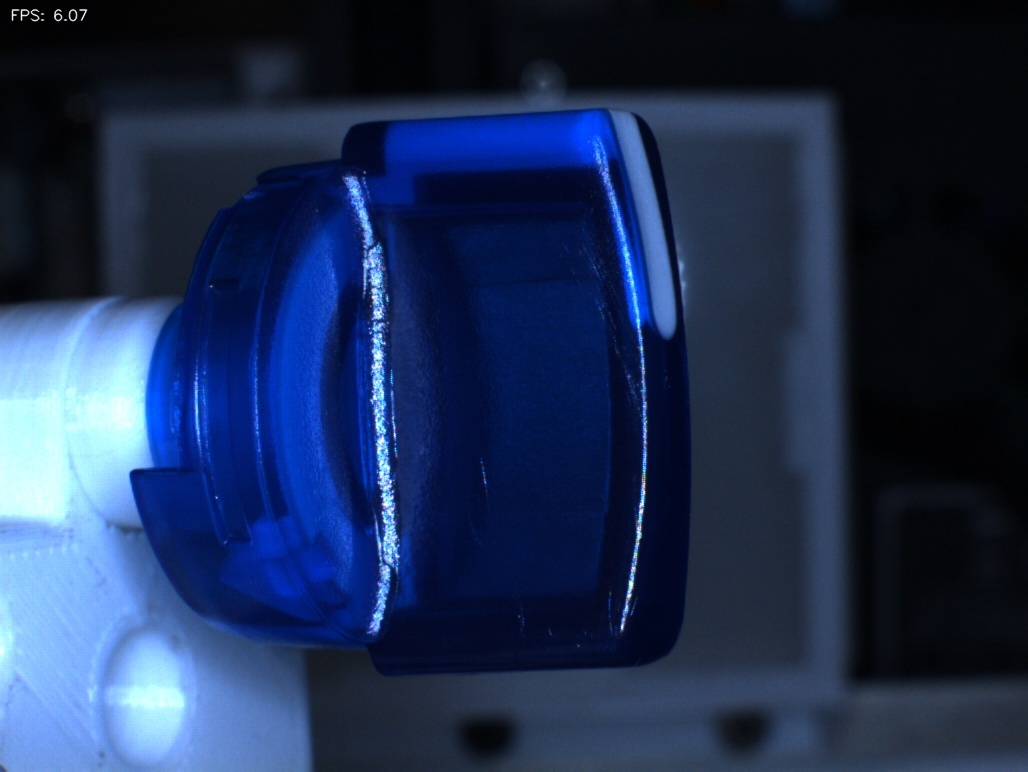Givrage: (537, 203, 649, 406), (441, 449, 537, 636)
